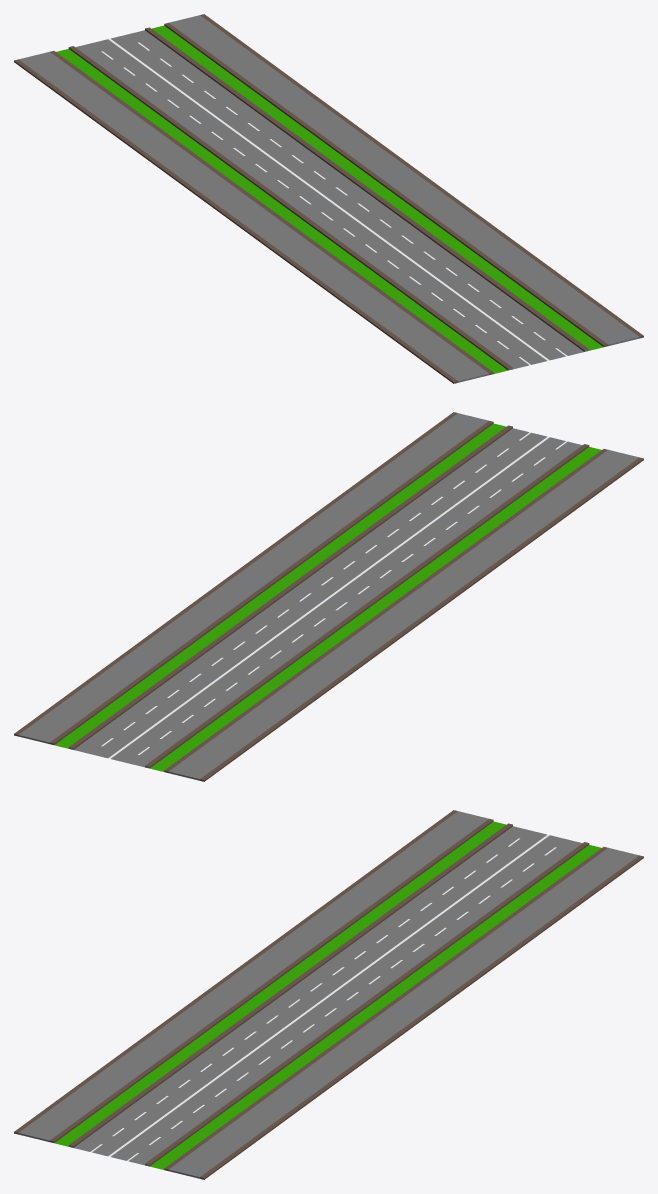
Rendered from SM_Road_P2.fbx.
The picture shows the model from 3 angles, top to bottom: view 1: azimuth 30°, elevation 25°; view 2: azimuth 150°, elevation 25°; view 3: azimuth 330°, elevation 25°; orthographic projection.
Visible parts, largest first — view 1: SM_Road_P2; view 2: SM_Road_P2; view 3: SM_Road_P2.
Part boxes in pixels (x1,y1,x2,y2): SM_Road_P2: (14,14,643,383); SM_Road_P2: (14,412,643,781); SM_Road_P2: (14,810,643,1179).
Size of the model in its own units: 360001 by 2992 by 1440000.
